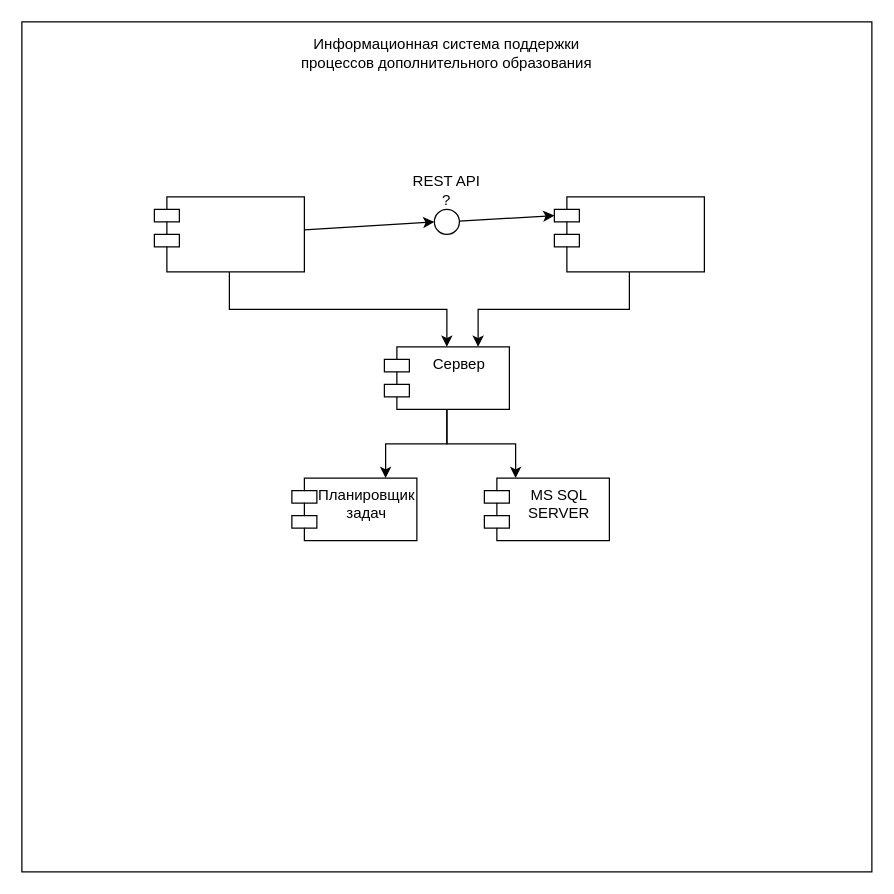
This 894x894 diagram has some shape labels left out. Each missing label, with the box of its shape:
Клиентский портал: (553, 196, 704, 272)
Модуль администратора: (153, 196, 304, 272)
